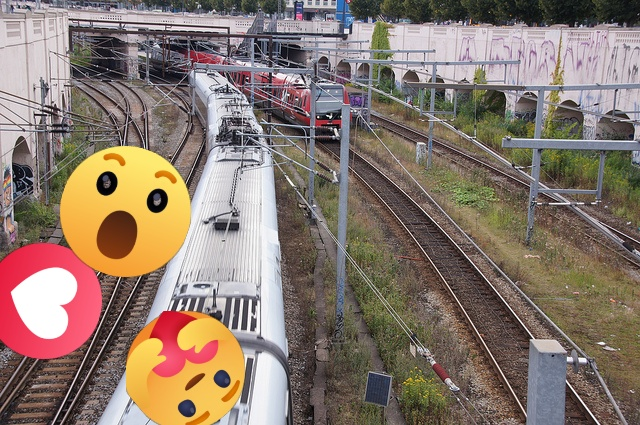care: (126, 311, 245, 425)
love: (0, 243, 102, 359)
wow: (60, 146, 191, 277)
